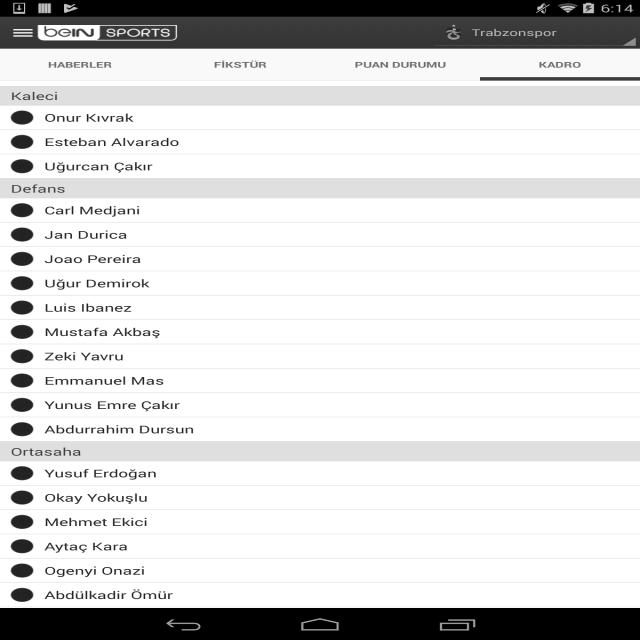ImageView: (13, 25, 177, 41), (441, 24, 466, 40), (11, 110, 34, 125), (11, 227, 34, 242), (11, 300, 34, 315), (11, 373, 34, 388), (11, 490, 34, 505), (11, 563, 34, 578), (11, 135, 34, 149), (11, 159, 34, 173), (11, 203, 34, 217), (11, 252, 34, 266), (11, 276, 34, 290), (11, 325, 34, 339), (11, 349, 34, 363), (11, 398, 34, 412), (11, 422, 34, 436), (11, 466, 34, 480), (11, 515, 34, 529), (11, 539, 34, 553), (11, 588, 34, 602)
Spinner: (431, 16, 640, 48)
TextView: (0, 86, 640, 106), (0, 179, 640, 198), (0, 442, 640, 461), (0, 48, 160, 80), (160, 48, 320, 80), (320, 48, 480, 80), (480, 48, 640, 80), (471, 16, 557, 48), (44, 420, 194, 438), (44, 396, 180, 414), (44, 133, 179, 151), (44, 586, 173, 604), (44, 371, 164, 390), (44, 323, 161, 341), (44, 464, 158, 482), (44, 488, 148, 507), (44, 157, 153, 175), (44, 561, 145, 580), (44, 274, 150, 292), (44, 513, 148, 531), (45, 250, 142, 268), (44, 201, 140, 219), (44, 108, 134, 127), (44, 298, 132, 317), (44, 225, 128, 244), (44, 537, 129, 555), (44, 347, 124, 365), (14, 398, 30, 411), (14, 136, 30, 148), (14, 160, 30, 172), (14, 252, 30, 264), (14, 277, 30, 289), (14, 302, 30, 314), (14, 326, 30, 338), (14, 423, 30, 435), (14, 467, 30, 479), (14, 540, 30, 552), (14, 564, 30, 576), (14, 588, 30, 600), (18, 112, 26, 124), (18, 204, 26, 216), (18, 228, 26, 240), (18, 350, 26, 362), (18, 374, 26, 386), (18, 492, 26, 504), (18, 516, 26, 528)
